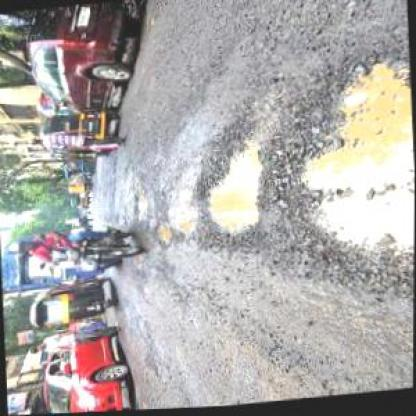pothole: (269, 44, 415, 305), (190, 129, 262, 252), (167, 205, 194, 236), (147, 221, 175, 248), (130, 187, 151, 223)
